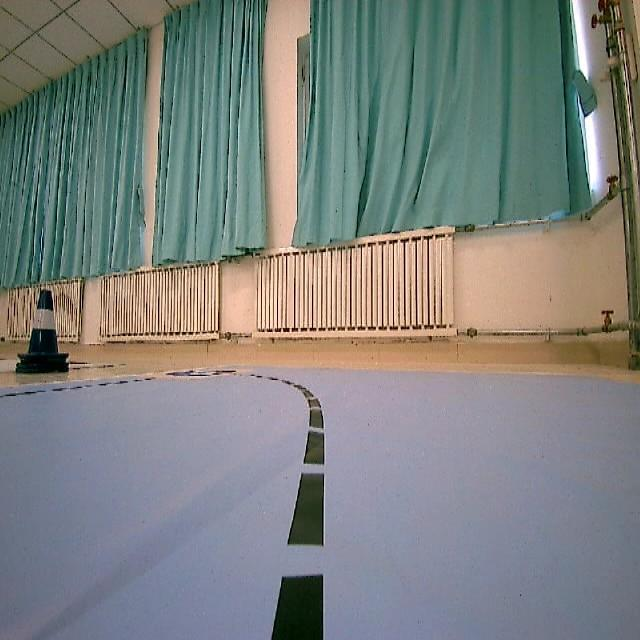obstacle: (18, 287, 72, 388)
